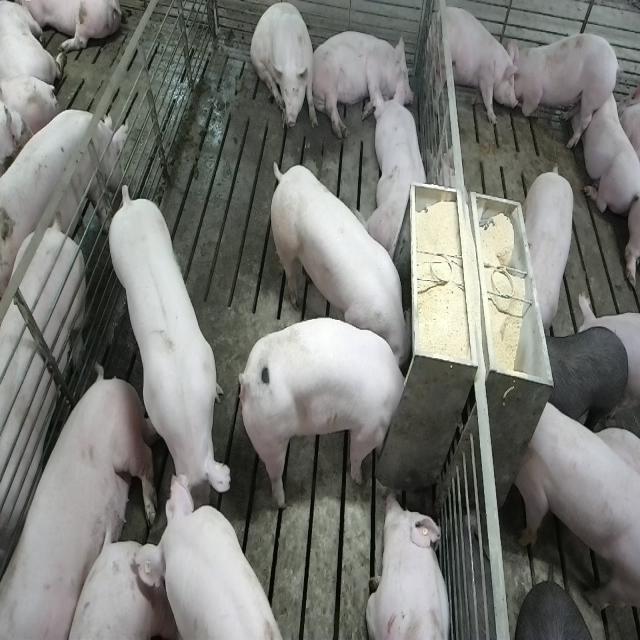Feeding: (244, 316, 416, 510), (264, 159, 411, 363)
Lateral_lying: (3, 366, 158, 640), (309, 28, 414, 141)
Sitting: (251, 5, 316, 136)
Standing: (107, 182, 236, 521), (0, 220, 90, 575), (515, 394, 639, 619), (140, 481, 288, 640), (0, 104, 123, 293), (510, 30, 619, 150), (431, 2, 520, 130), (524, 162, 578, 332), (545, 326, 629, 428)
Sternal_lying: (366, 490, 453, 640), (366, 86, 432, 263), (581, 78, 639, 215)
